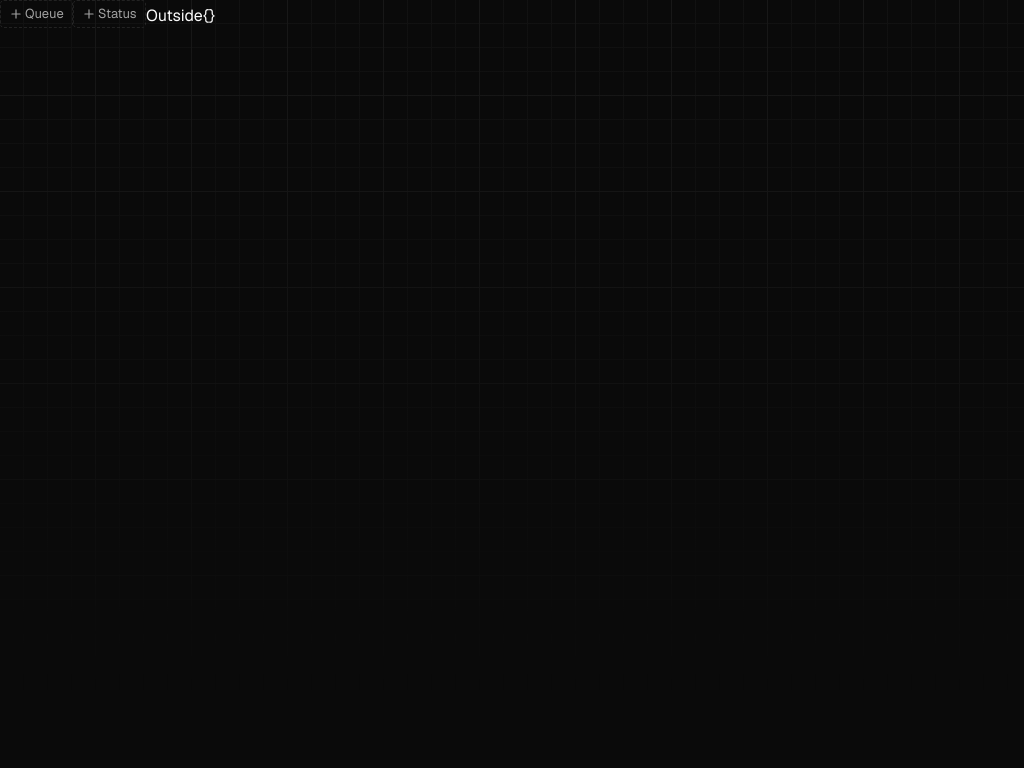
search › hides the search input for short lists (7 options or fewer)
Click the button with aria-label "Add Status filter": (121, 14) [98,1,145,27]
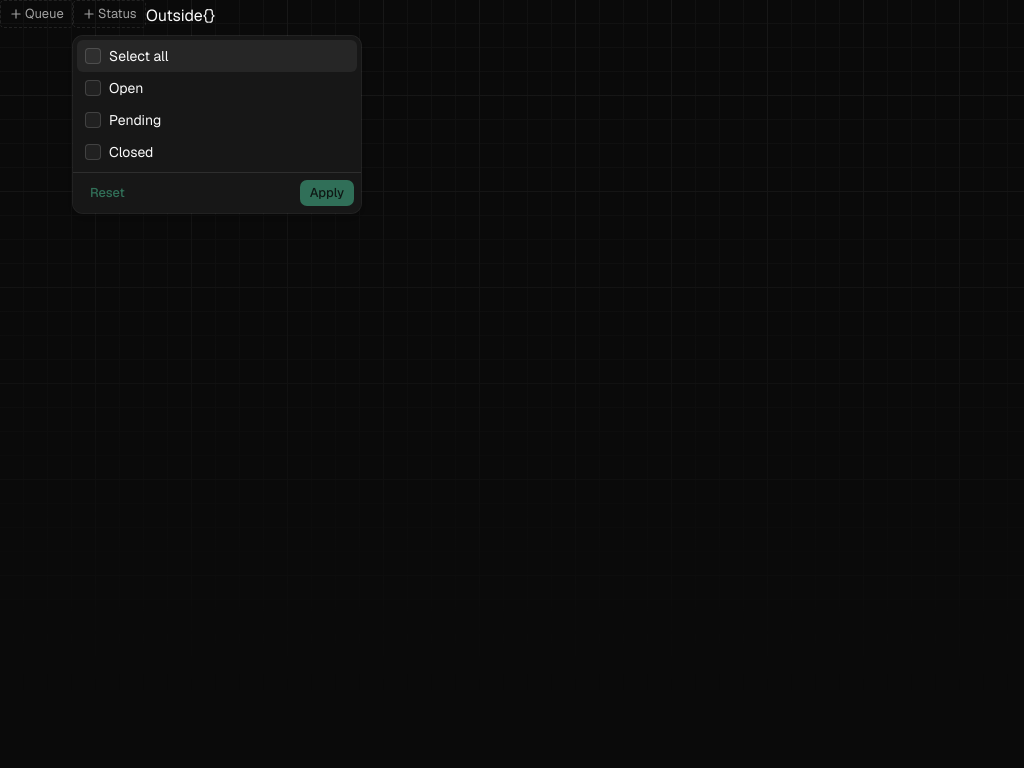
Result: the option "Open" is shown at [85,79,143,97]
